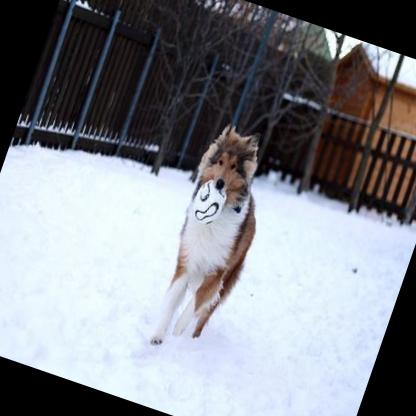collie: (136, 116, 288, 367)
